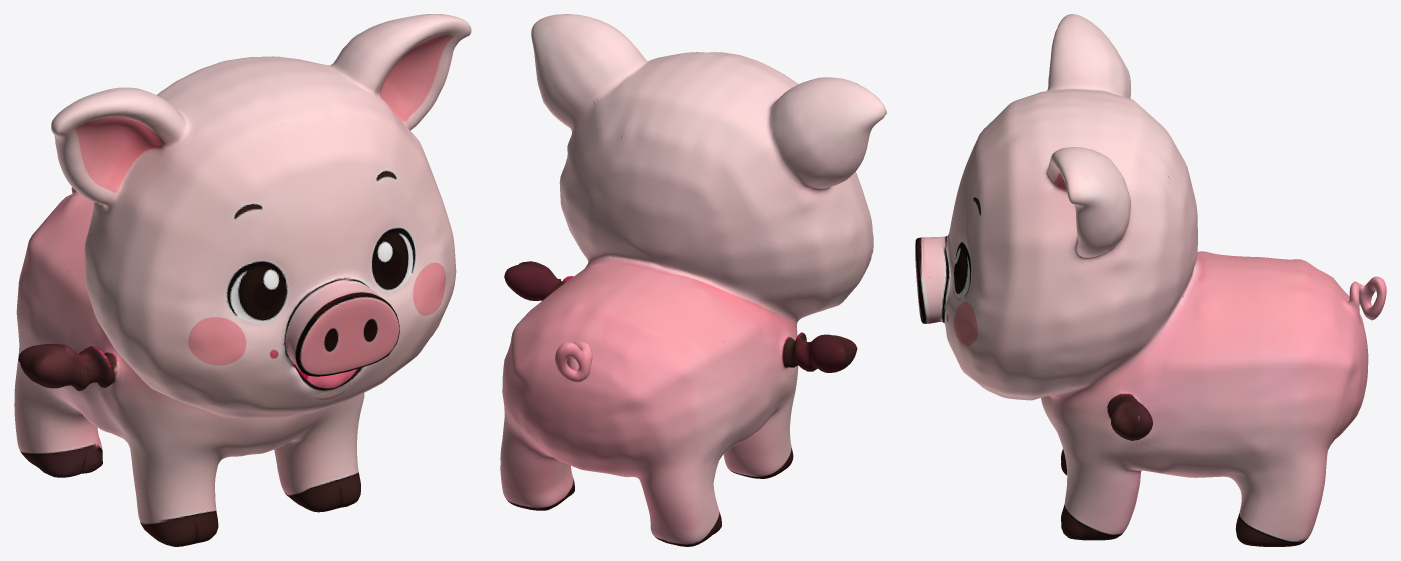
File: rosie-meshy-quadruped-v1.glb
3 views of the same model, side by side, from view 1: azimuth 30°, elevation 25°; view 2: azimuth 150°, elevation 25°; view 3: azimuth 270°, elevation 25° (orthographic). The views are drawn at different scales.
Parts seen in each view (by area): view 1: Mesh_0; view 2: Mesh_0; view 3: Mesh_0.
Boxes of the visible parts, bbox=[...] form: Mesh_0: bbox=[14, 14, 471, 546]; Mesh_0: bbox=[500, 14, 886, 546]; Mesh_0: bbox=[915, 14, 1386, 546].
Size of the model in its own units: 1.69 by 1.82 by 1.89.
1 material, 1 textured.
